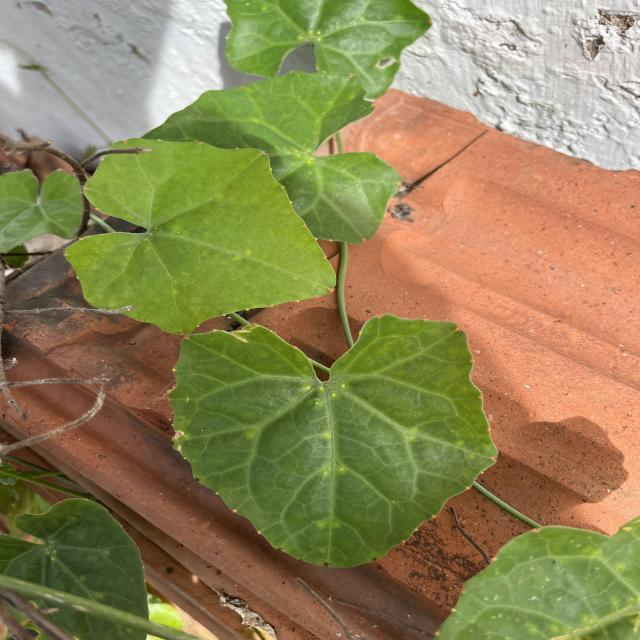Coccinia grandis: (166, 312, 501, 570), (62, 136, 339, 338)
